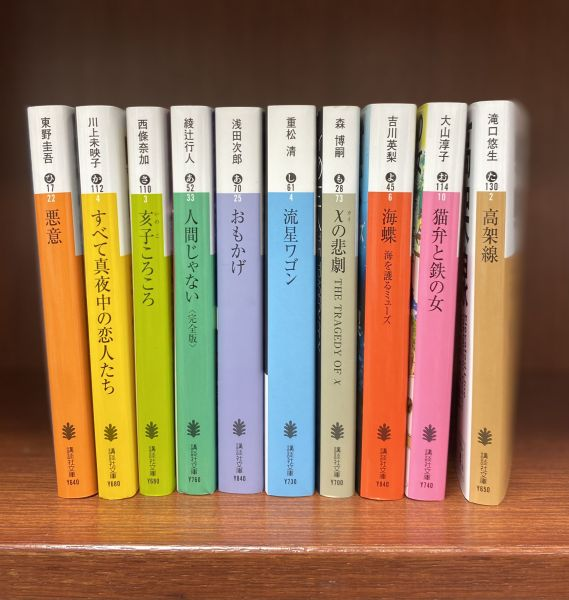book: (23, 101, 92, 502), (409, 96, 465, 503), (361, 97, 417, 497), (211, 103, 268, 493), (263, 101, 318, 500), (166, 102, 219, 495), (465, 95, 514, 509), (81, 101, 128, 501), (128, 103, 172, 497), (318, 102, 356, 501)
